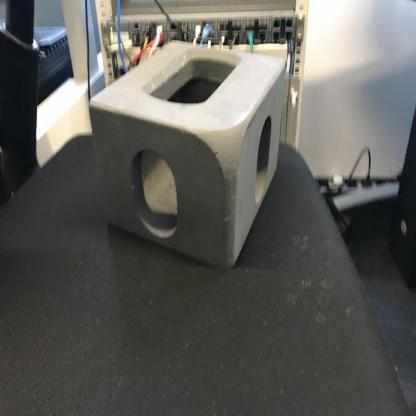CornerCasting: (88, 37, 300, 275)
